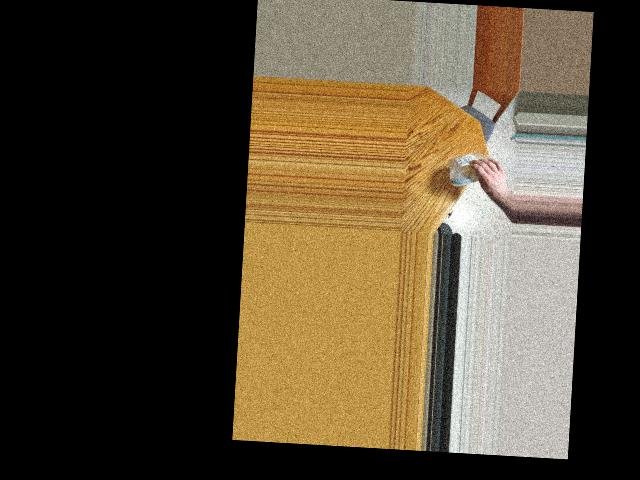cheese: (450, 150, 491, 185)
